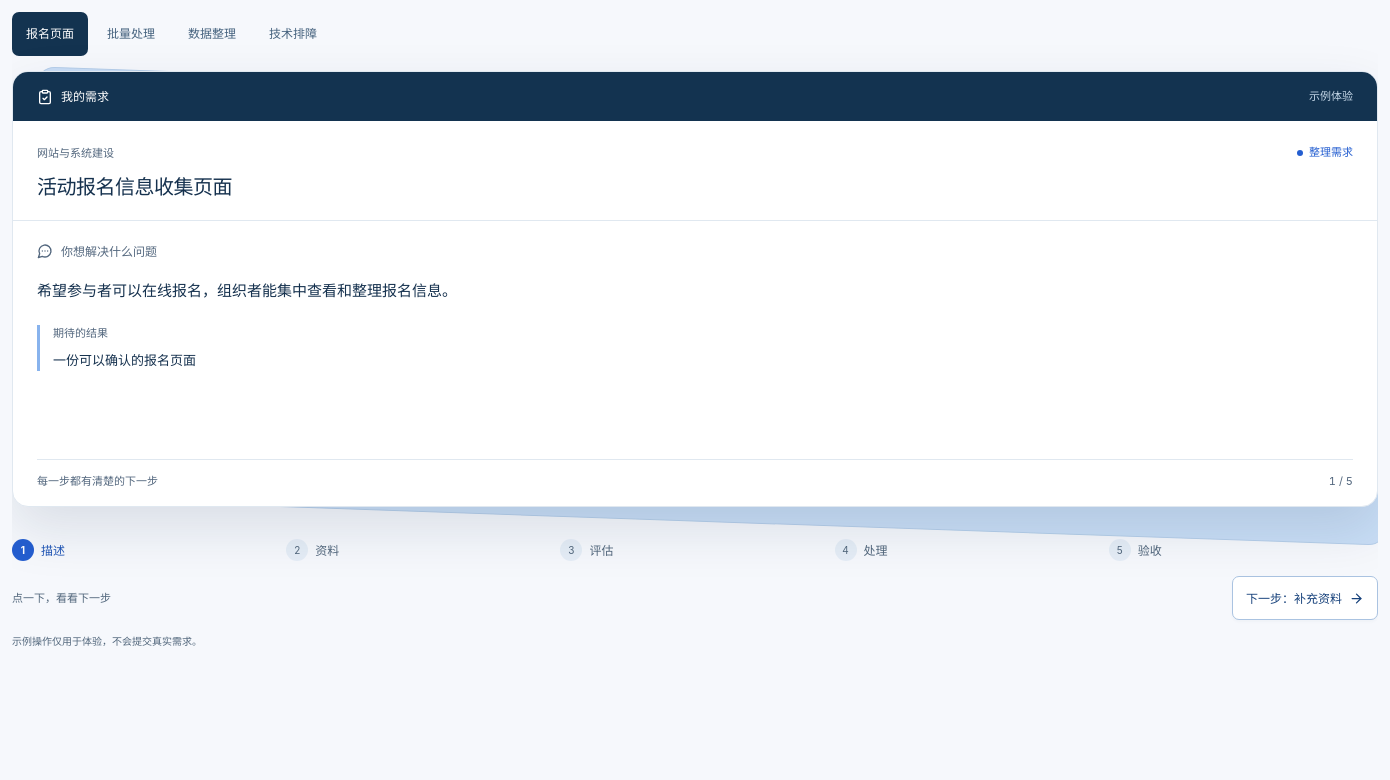
Test: LandingRequestDemo › 重新开始后保留可继续操作的键盘焦点
Step 1. Click the button with class "request-demo__next" → (1305, 598), box [1232,576,1378,620]
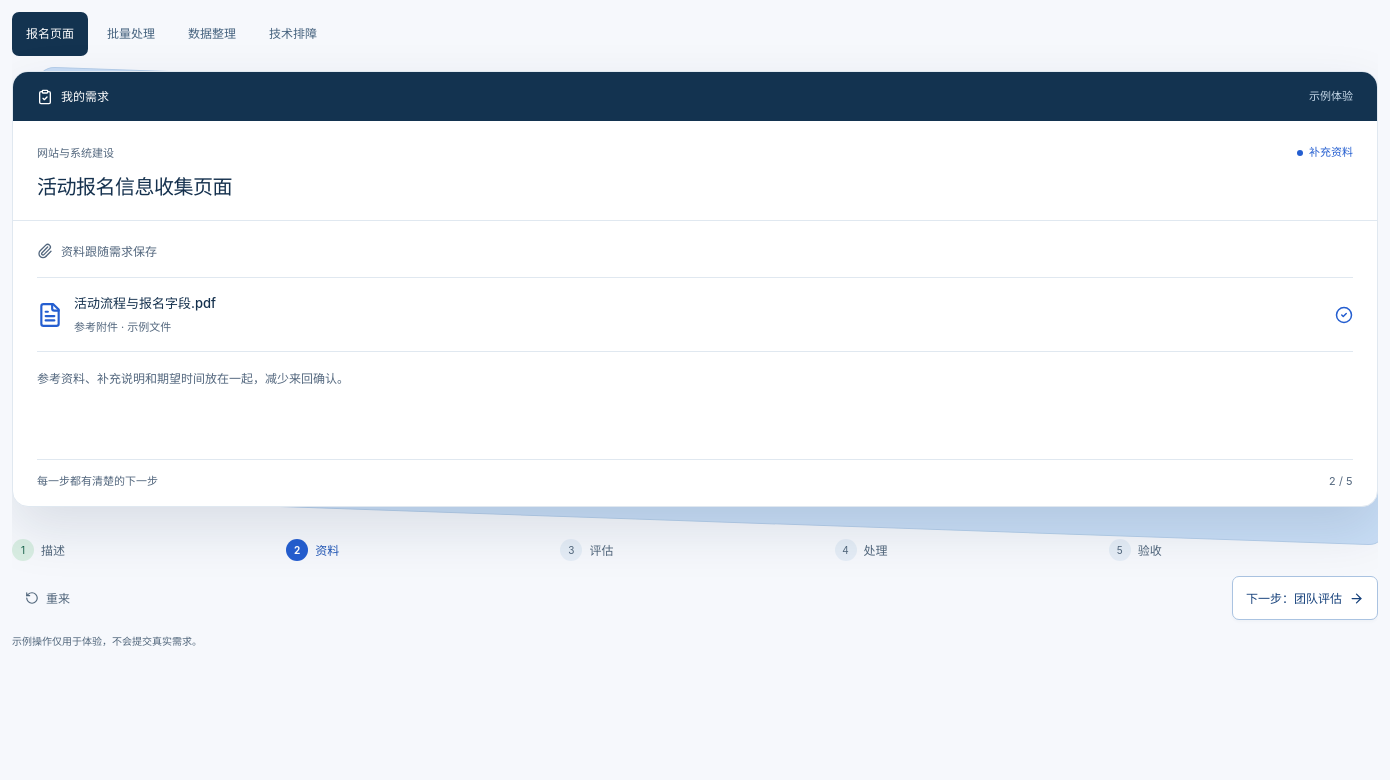
Step 2. Click the button with class "request-demo__reset" → (48, 598), box [12,576,83,620]
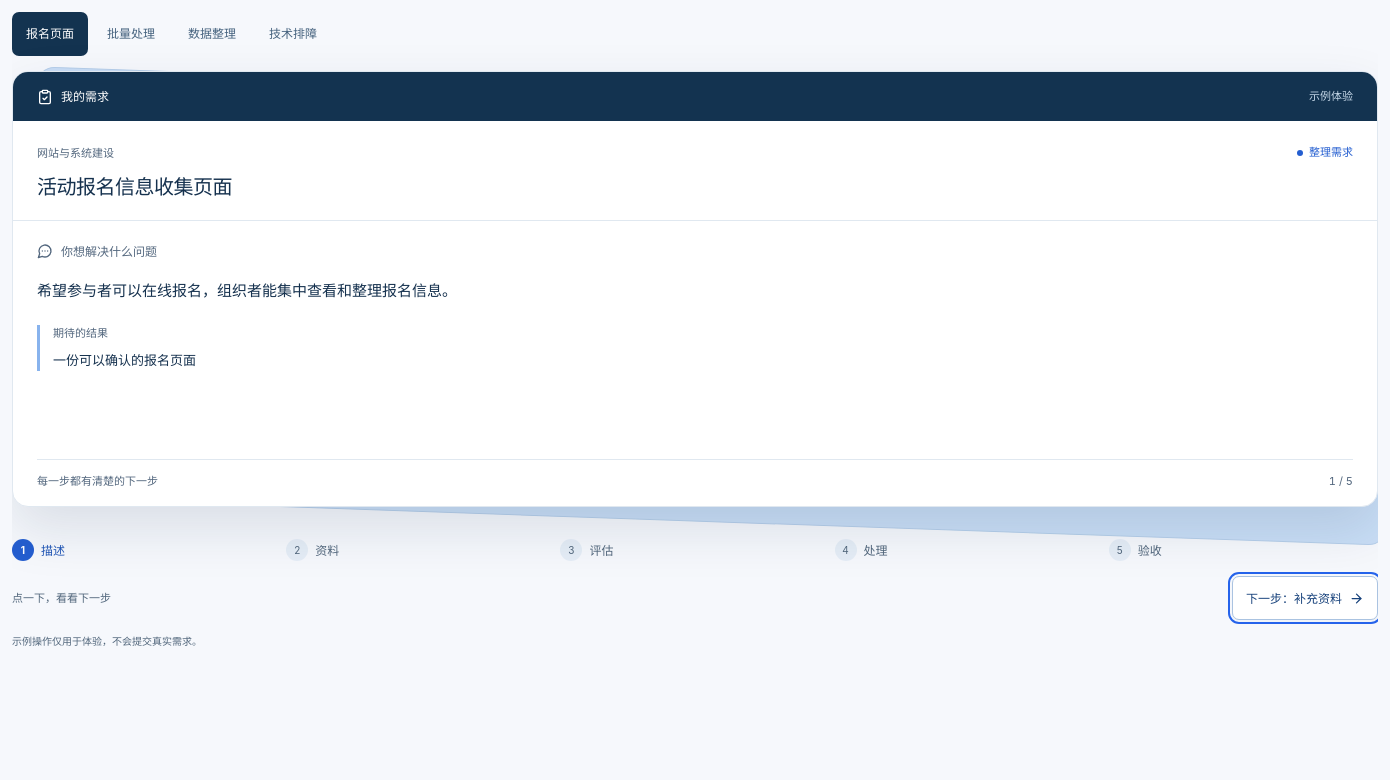
Expected: the element with class "request-scene__status" reads "整理需求", [1309,145,1353,159]
